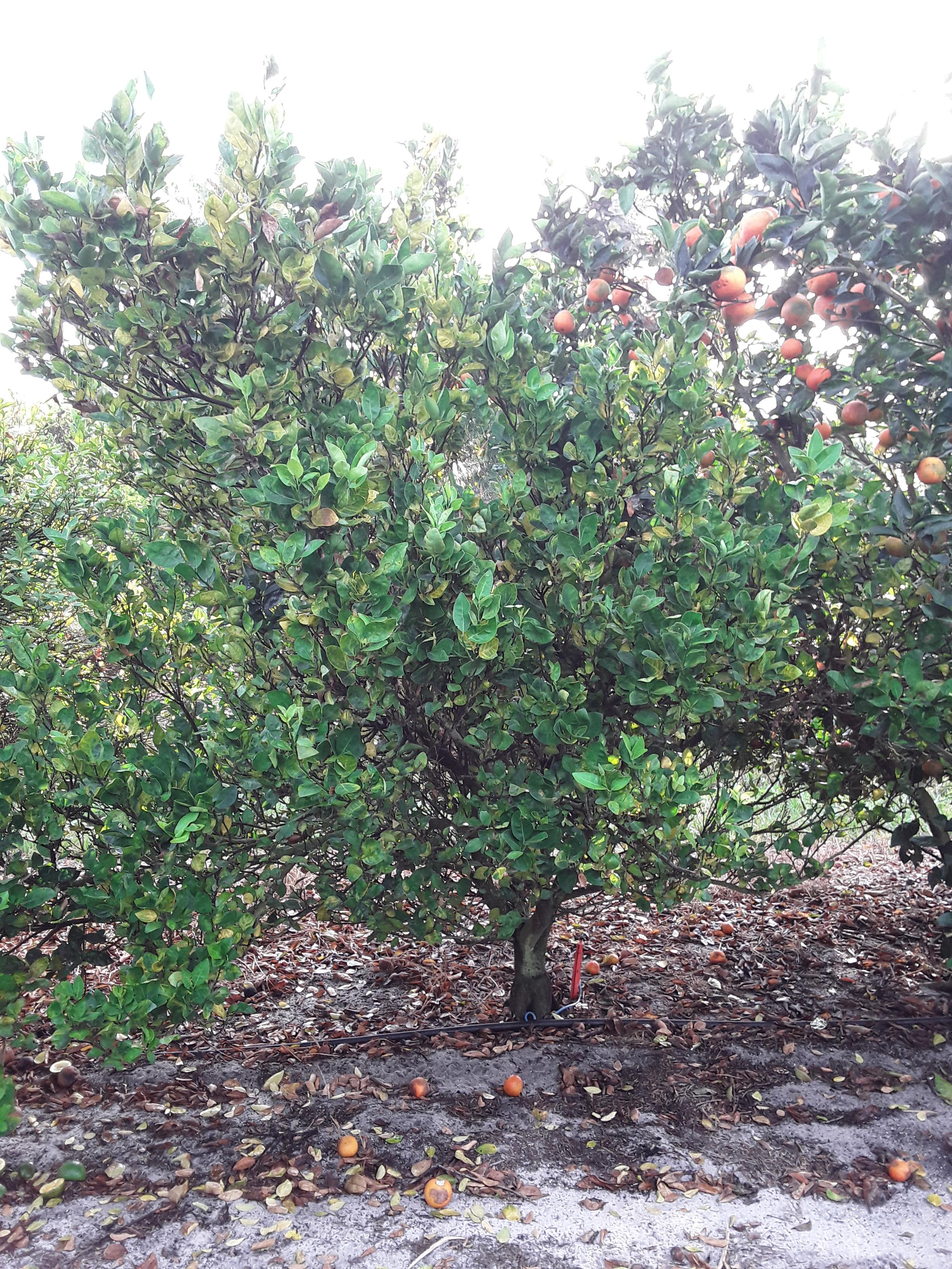fruit_on_ground: (708, 261, 757, 295), (738, 205, 780, 242), (439, 365, 482, 400), (841, 276, 880, 314), (871, 175, 905, 215), (781, 292, 810, 331), (916, 454, 950, 487), (920, 171, 951, 205), (805, 266, 840, 296), (915, 523, 947, 555), (694, 440, 723, 475), (786, 184, 814, 219), (878, 531, 911, 560), (833, 299, 862, 331), (838, 399, 869, 428), (582, 278, 614, 304), (687, 218, 714, 248), (906, 419, 934, 446), (553, 307, 579, 336), (723, 225, 746, 256), (813, 294, 839, 320), (653, 265, 681, 289), (703, 191, 731, 215), (809, 421, 839, 443), (755, 412, 785, 434), (595, 262, 622, 286), (803, 369, 837, 388), (759, 202, 789, 223), (609, 284, 634, 308), (581, 295, 605, 320), (614, 308, 640, 331), (875, 425, 902, 447), (922, 757, 946, 781), (779, 335, 804, 358), (623, 341, 649, 362), (866, 402, 888, 423), (790, 364, 816, 379)
fruit_on_tree: (415, 1174, 459, 1215), (403, 1072, 433, 1105), (333, 1130, 364, 1160), (53, 1063, 84, 1090), (888, 1157, 916, 1184), (505, 1071, 527, 1099), (601, 947, 621, 968), (710, 945, 730, 964), (579, 957, 600, 975), (242, 985, 259, 998), (721, 919, 732, 936)
